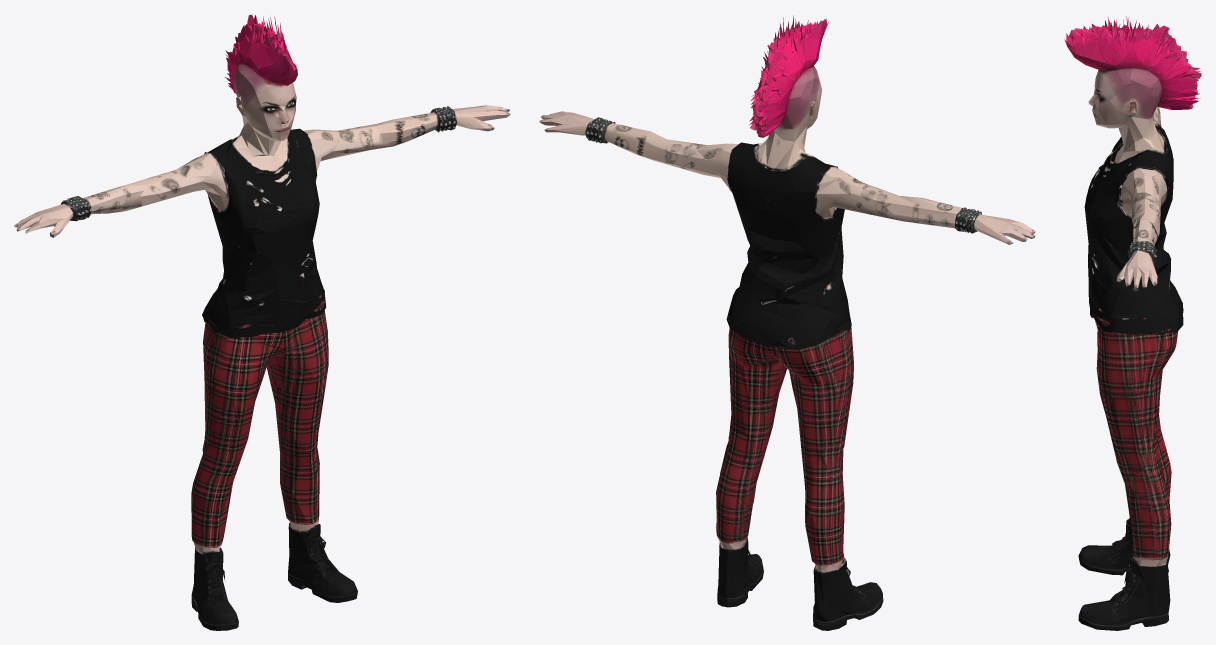
Rendered from image3d.glb.
The picture shows the model from 3 angles, left to right: view 1: azimuth 30°, elevation 25°; view 2: azimuth 150°, elevation 25°; view 3: azimuth 270°, elevation 25°; orthographic projection.
Bounding box in the file's own units: 1.67 × 1.9 × 0.4059.
Materials: 1 (1 with a texture image).
